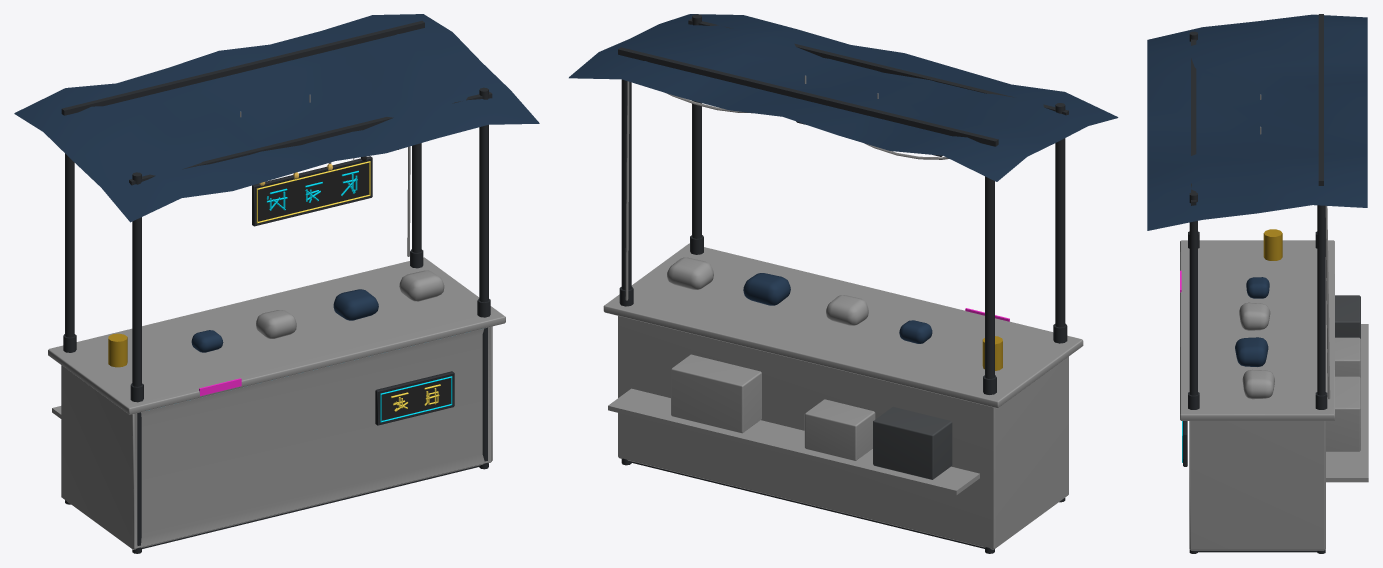
File: MarketStall_Blue.fbx
3 views of the same model, side by side, from view 1: azimuth 30°, elevation 25°; view 2: azimuth 150°, elevation 25°; view 3: azimuth 270°, elevation 25° (orthographic). The views are drawn at different scales.
Visible parts, largest first — view 1: MarketStall_Blue_LOD0; view 2: MarketStall_Blue_LOD0; view 3: MarketStall_Blue_LOD0.
Part boxes in pixels (<box>): MarketStall_Blue_LOD0: <box>14,14,539,553</box>; MarketStall_Blue_LOD0: <box>569,14,1118,553</box>; MarketStall_Blue_LOD0: <box>1147,14,1368,553</box>.
Size of what is drawn, in the model's own units: 2.95 by 2.72 by 1.46.
